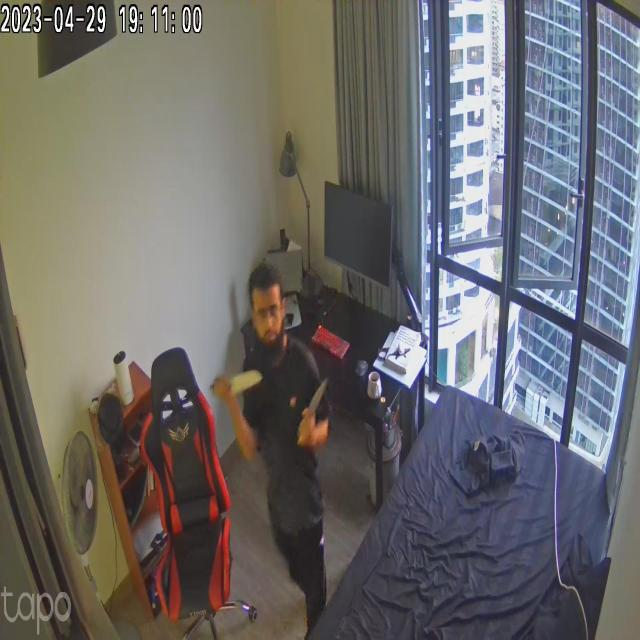Knife: (206, 354, 268, 405), (298, 372, 338, 443)
